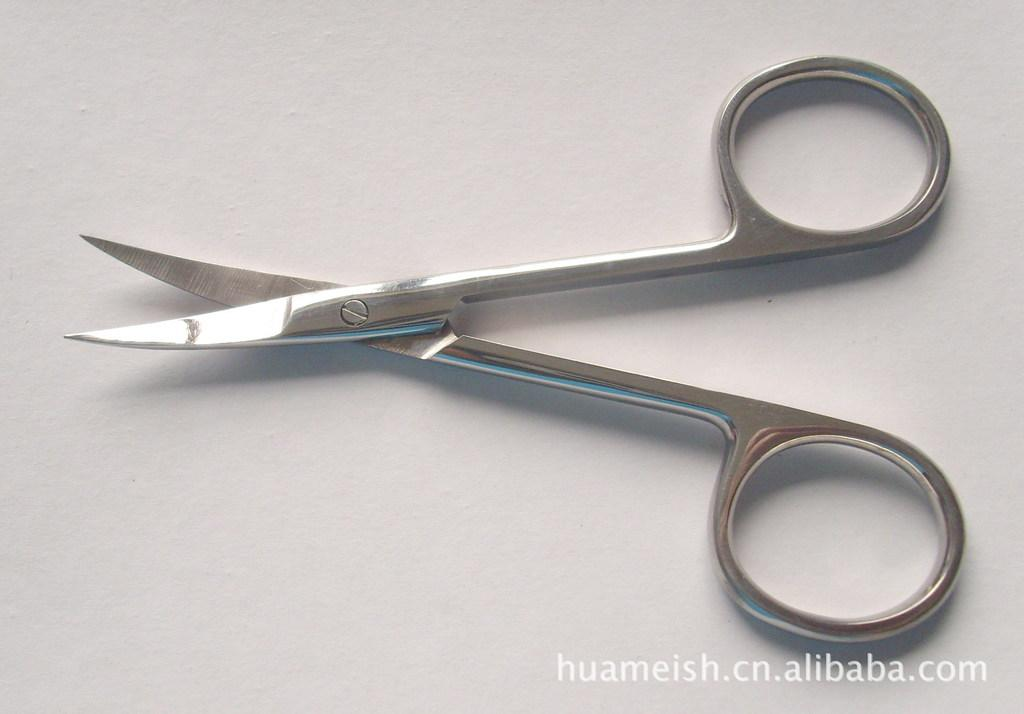scissor: (116, 43, 987, 639)
